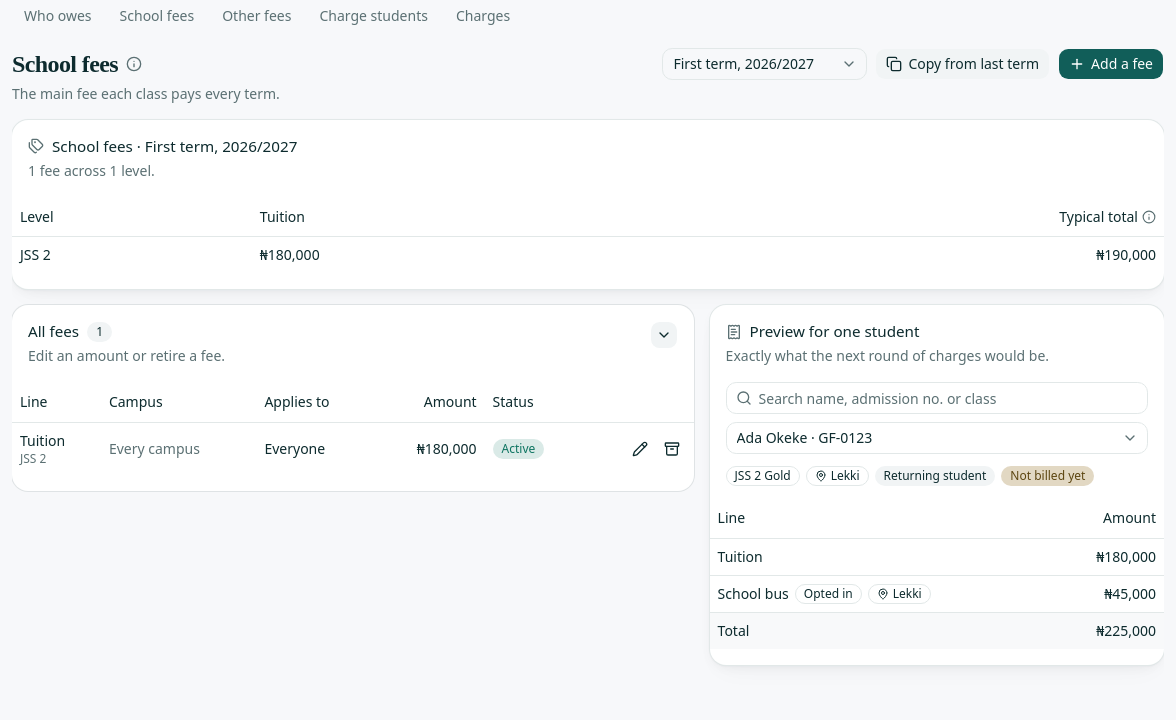
the preview card › searches the candidates and says how many match
The width and height of the screenshot is (1176, 720).
Type "chidi" into the field named "Search students" at [937, 398], box [726,382,1148,414]
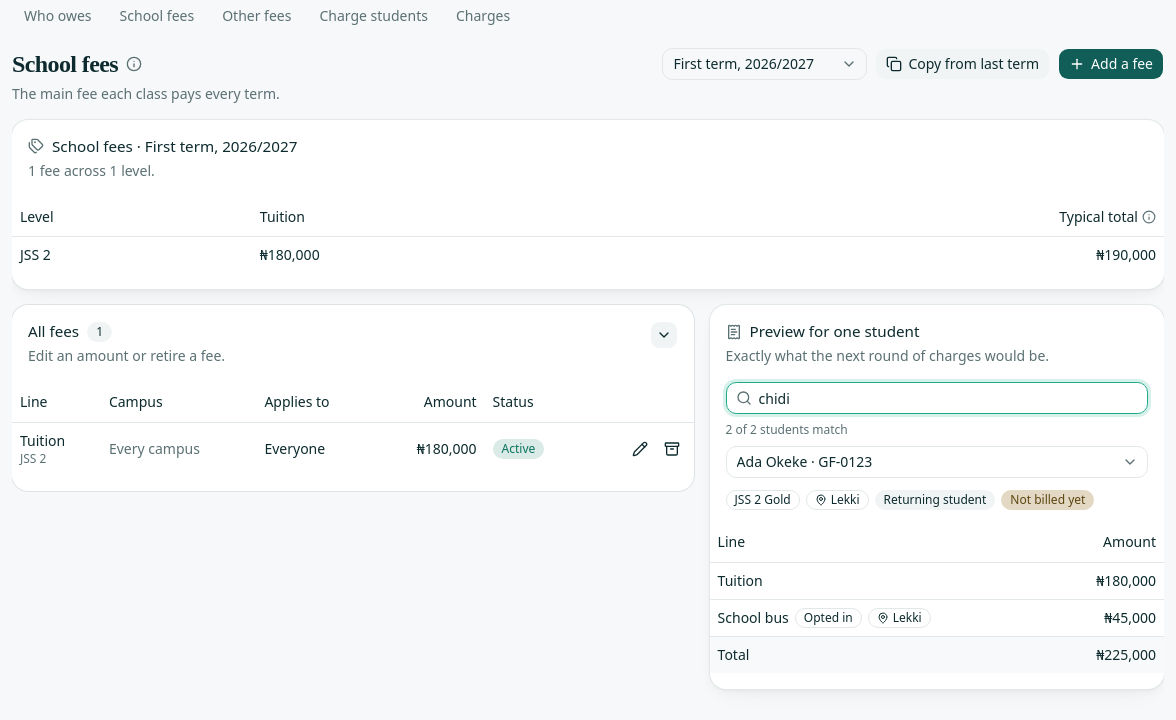
expect the text "2 of 2 students match" is shown: met, box [726,421,848,438]
